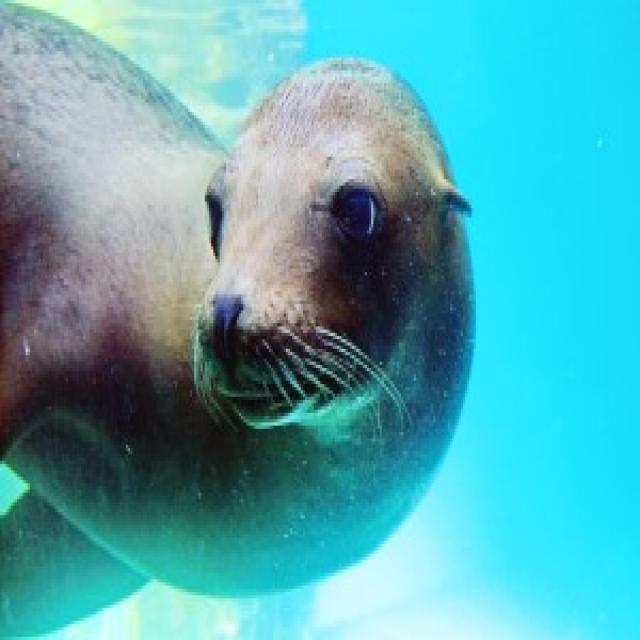Seal: (0, 2, 471, 640)
